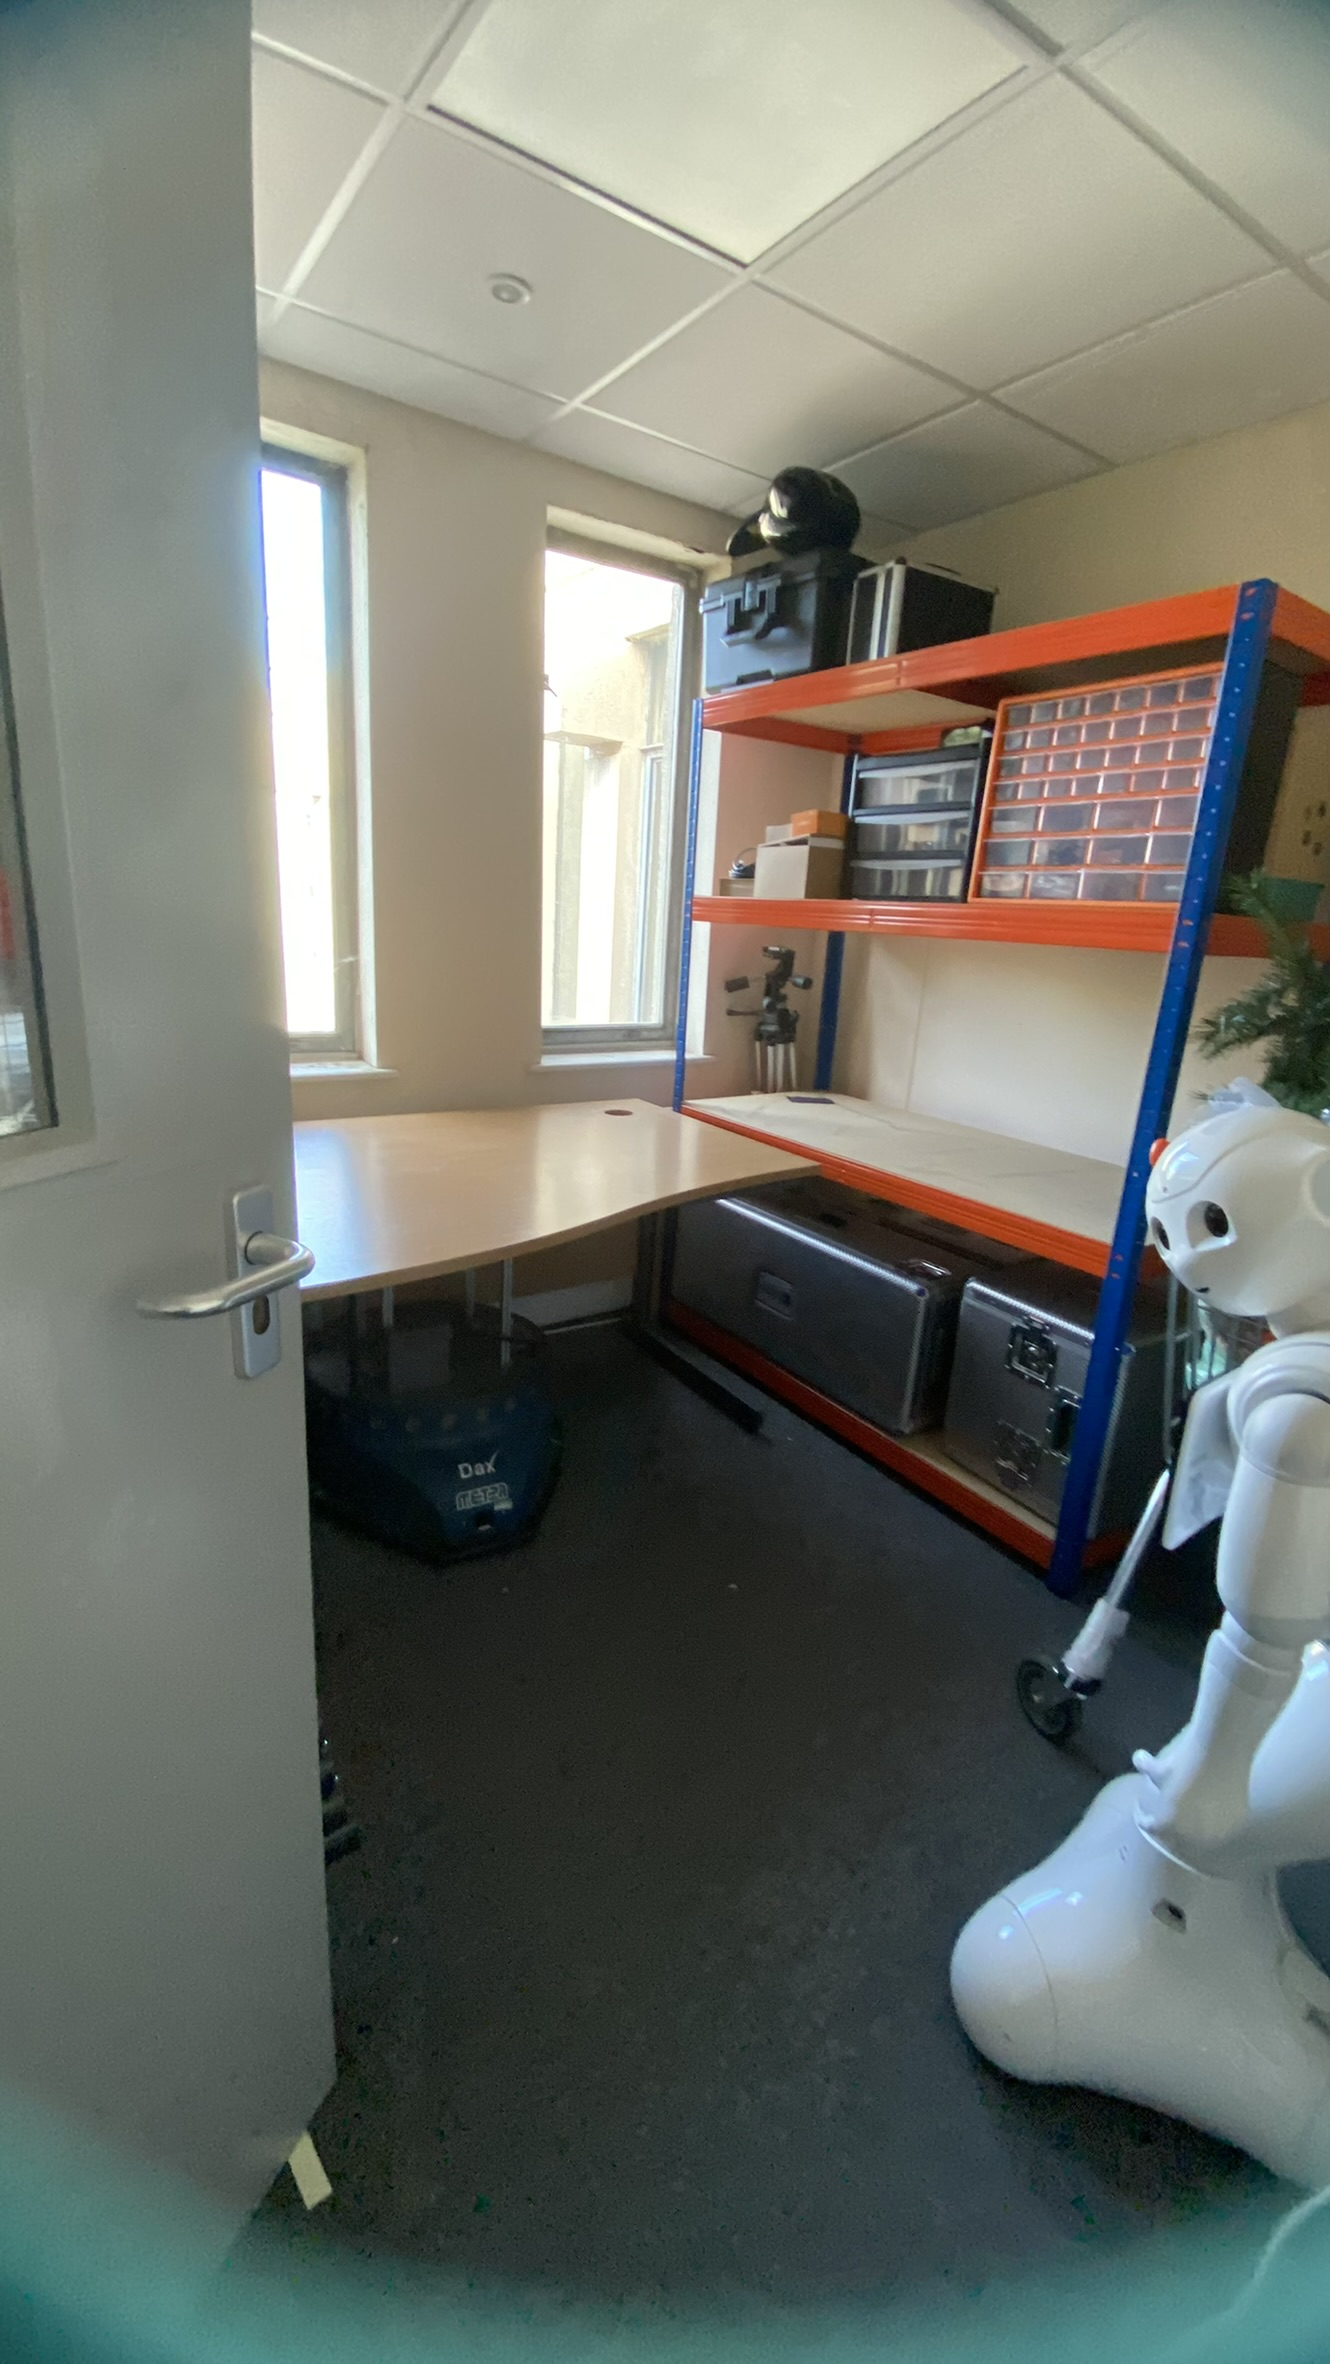door: (6, 16, 365, 2364)
table: (305, 1096, 818, 1604)
